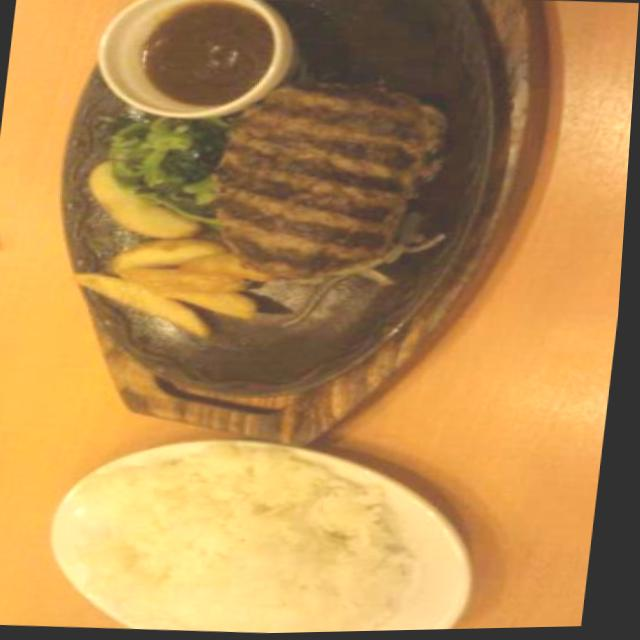炸货点心: (51, 141, 296, 360)
牛肉菜式: (185, 57, 475, 315)
米饭主食: (37, 418, 498, 639)
